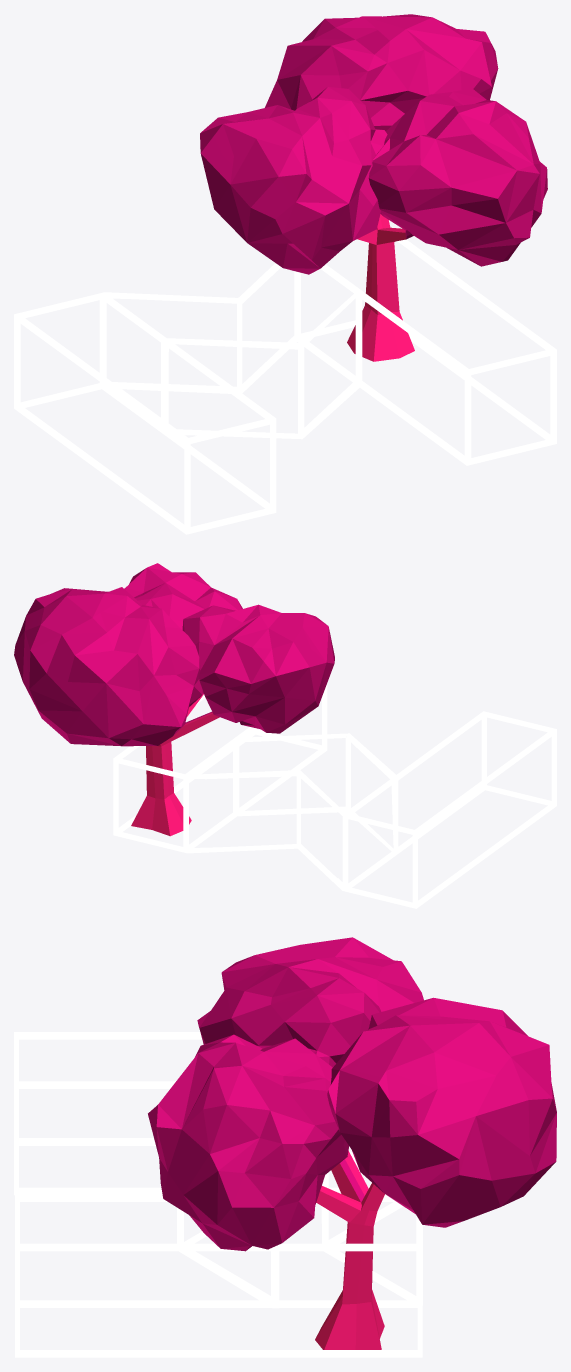
Rendered from m-tree-pink.gltf.
The picture shows the model from 3 angles, top to bottom: view 1: azimuth 30°, elevation 25°; view 2: azimuth 150°, elevation 25°; view 3: azimuth 270°, elevation 25°; orthographic projection. The views are drawn at different scales.
Visible parts, largest first — view 1: Tree_average_lush, Cube, Tree_average_lush.001; view 2: Tree_average_lush, Cube, Tree_average_lush.001; view 3: Tree_average_lush, Cube, Tree_average_lush.001.
Boxes of the visible parts, x1,y1,x2,y2 form: Tree_average_lush: (200,14,547,274); Cube: (14,239,556,534); Tree_average_lush.001: (347,214,414,361); Tree_average_lush: (14,563,334,746); Cube: (113,683,556,908); Tree_average_lush.001: (131,693,219,836); Tree_average_lush: (148,937,556,1251); Cube: (14,1032,422,1357); Tree_average_lush.001: (315,1151,384,1349).
Bounding box in the file's own units: 10.65 × 6.13 × 8.82.
